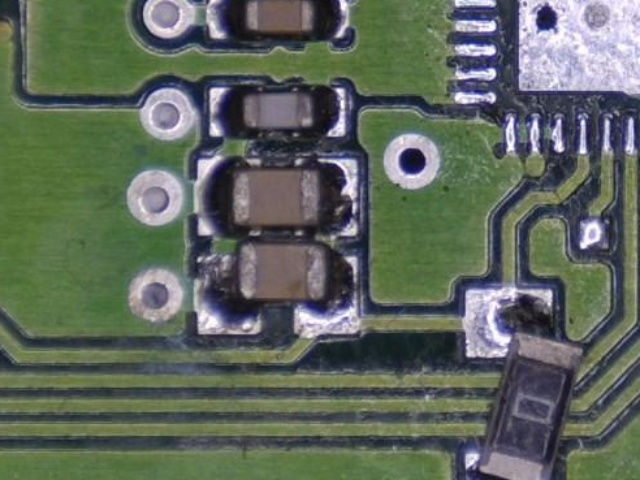pcb_defect: (462, 286, 586, 480), (196, 242, 359, 335)
